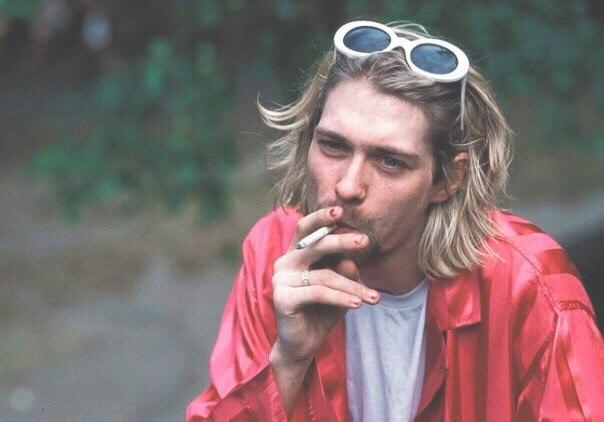cigarette: (295, 224, 340, 249)
